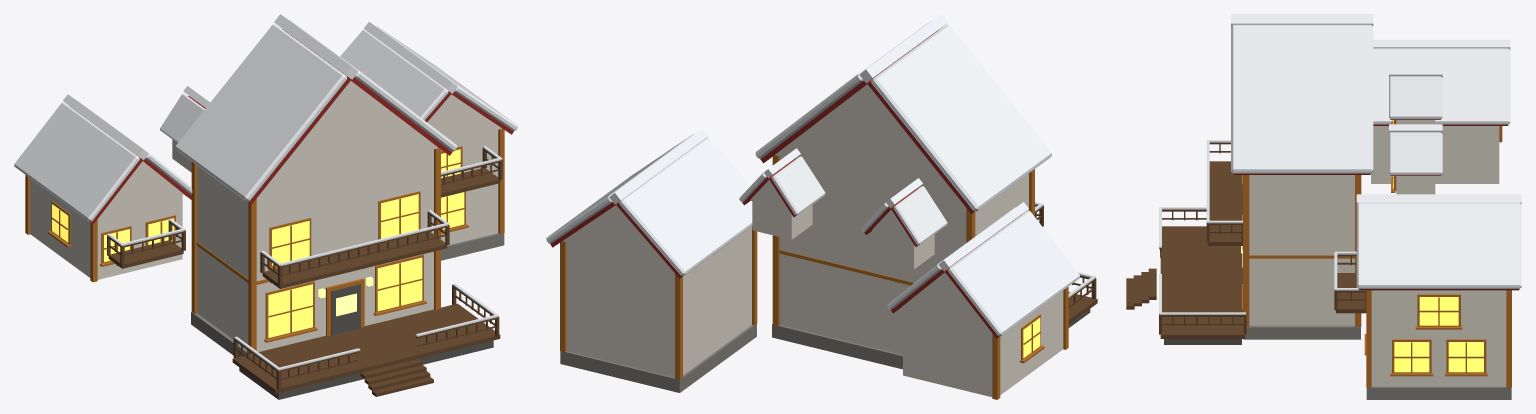
Rendered from lodge-annex-2-sugarhouse.glb.
3 renders of one model, left to right at view 1: azimuth 30°, elevation 25°; view 2: azimuth 150°, elevation 25°; view 3: azimuth 270°, elevation 25°, orthographic. The views are drawn at different scales.
Visible parts, largest first — view 1: lodge-annex-2-sugarhouse; view 2: lodge-annex-2-sugarhouse; view 3: lodge-annex-2-sugarhouse.
Boxes of the visible parts, left/top/right/bottom form: lodge-annex-2-sugarhouse: left=14, top=14, right=517, bottom=399; lodge-annex-2-sugarhouse: left=546, top=14, right=1097, bottom=399; lodge-annex-2-sugarhouse: left=1126, top=14, right=1521, bottom=399.
Size of the model in its own units: 25.07 by 15.95 by 20.28.
